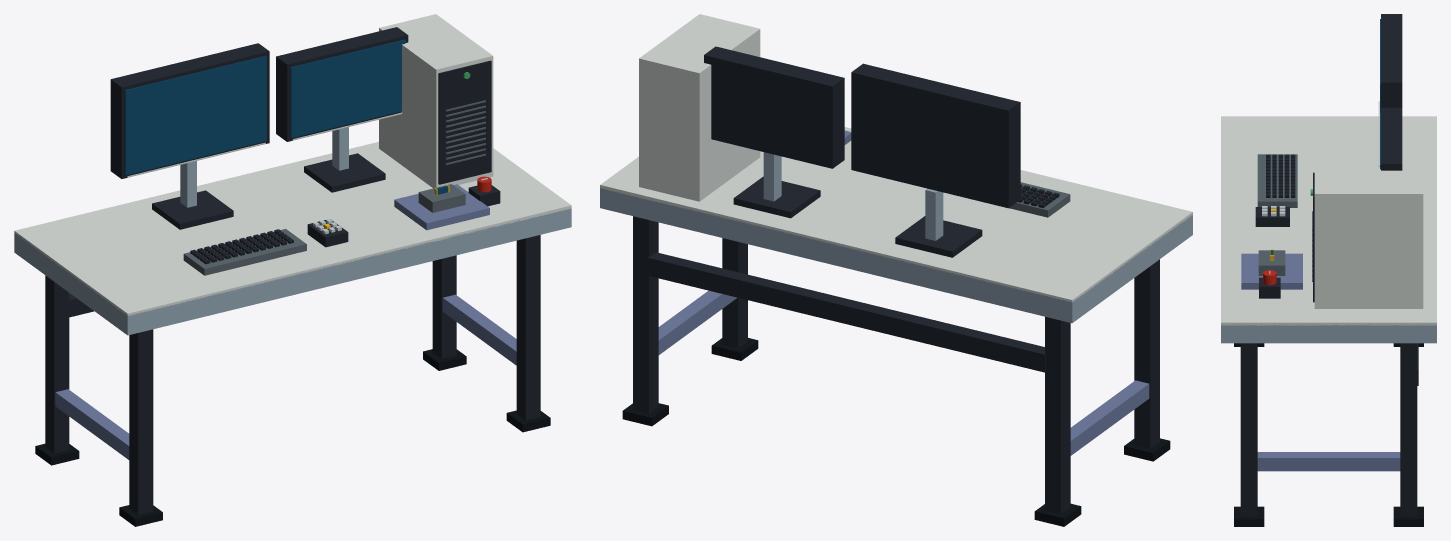
File: workstation.glb
3 views of the same model, side by side, from view 1: azimuth 30°, elevation 25°; view 2: azimuth 150°, elevation 25°; view 3: azimuth 270°, elevation 25° (orthographic). The views are drawn at different scales.
Parts seen in each view (by area): view 1: desktop, frame, main_screen, tower, reference_screen, display_stands, keyboard, fixture, feet, keypad_mesh, terminal_switch; view 2: desktop, frame, main_screen, tower, reference_screen, display_stands, feet, keyboard; view 3: desktop, tower, frame, main_screen, keyboard, fixture, reference_screen, feet, keypad_mesh, terminal_switch.
Part boxes in pixels (box(x1,y1,x2,y2)): desktop: box(14, 142, 571, 335); frame: box(45, 235, 540, 514); main_screen: box(110, 43, 269, 178); tower: box(379, 14, 493, 188); reference_screen: box(276, 27, 408, 141); display_stands: box(152, 127, 385, 229); keyboard: box(183, 229, 306, 275); fixture: box(394, 184, 489, 230); feet: box(35, 349, 550, 526); keypad_mesh: box(307, 218, 348, 247); terminal_switch: box(468, 176, 500, 206); desktop: box(600, 127, 1192, 323); frame: box(633, 216, 1159, 513); main_screen: box(851, 63, 1020, 208); tower: box(639, 14, 760, 201); reference_screen: box(704, 46, 844, 168); display_stands: box(733, 152, 982, 257); feet: box(622, 338, 1170, 526); keyboard: box(1009, 182, 1070, 217); desktop: box(1221, 116, 1436, 343); tower: box(1310, 167, 1423, 308); frame: box(1240, 343, 1418, 516); main_screen: box(1378, 14, 1402, 166); keyboard: box(1257, 154, 1297, 207); fixture: box(1241, 250, 1302, 289); reference_screen: box(1380, 107, 1402, 170); feet: box(1234, 343, 1423, 526); keypad_mesh: box(1255, 206, 1289, 226); terminal_switch: box(1259, 270, 1280, 298).
Size of the model in its own units: 1.65 by 1.31 by 0.73.
